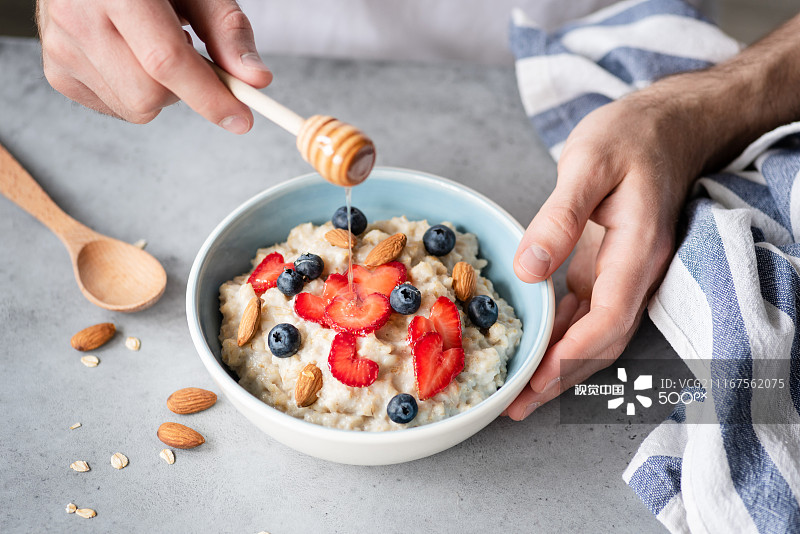no-phone: (507, 75, 715, 432), (7, 1, 288, 167)
